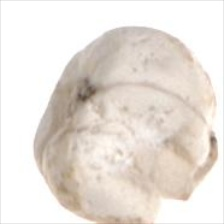L4: (33, 27, 219, 222)
